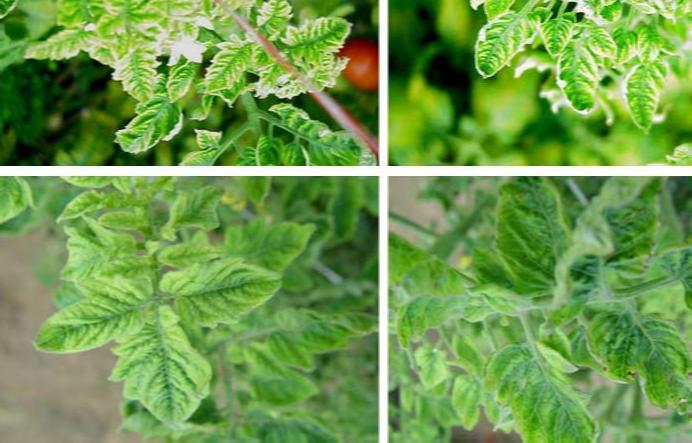Tomato mold leaf: (467, 331, 608, 443), (109, 308, 226, 433), (154, 258, 299, 335), (27, 280, 152, 368), (493, 177, 579, 302)
